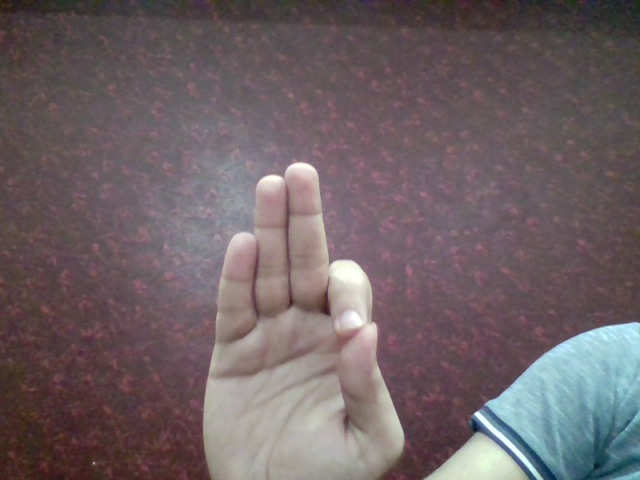f: (186, 155, 411, 476)
